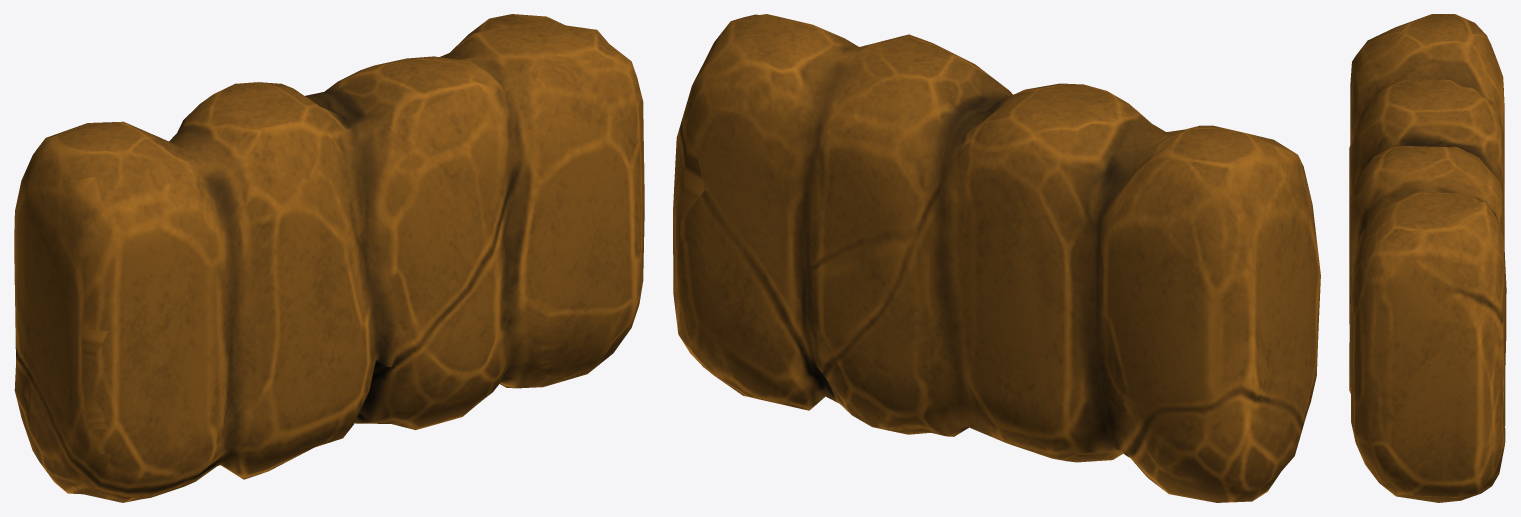
File: ModelWallRockDesert0202.fbx
3 views of the same model, side by side, from view 1: azimuth 30°, elevation 25°; view 2: azimuth 150°, elevation 25°; view 3: azimuth 270°, elevation 25° (orthographic). The views are drawn at different scales.
Parts seen in each view (by area): view 1: ModelWall0202; view 2: ModelWall0202; view 3: ModelWall0202.
Part boxes in pixels (box(x1,y1,x2,y2)): ModelWall0202: box(14, 14, 644, 502); ModelWall0202: box(673, 14, 1320, 502); ModelWall0202: box(1349, 14, 1506, 502).
Bounding box in the file's own units: 604 × 349 × 171.
1 material, 1 textured.
